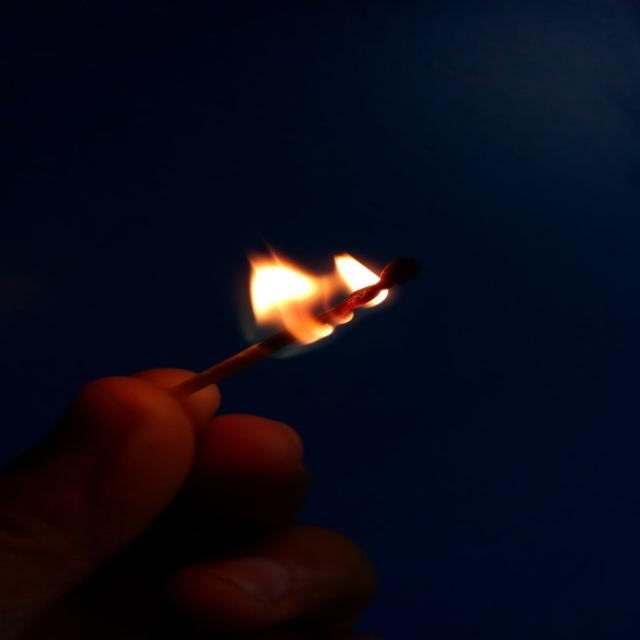fire: (248, 247, 388, 346)
